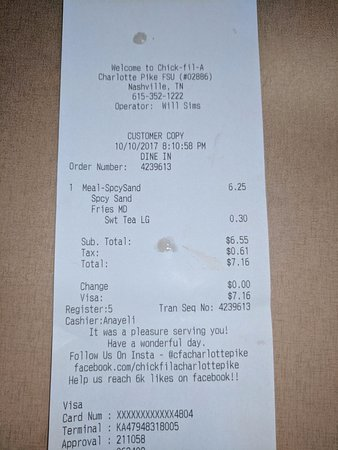Additional details: (52, 316, 270, 450)
Purchase summary: (58, 120, 268, 328)
Receipt: (58, 1, 277, 448)
Shop details: (64, 53, 257, 118)
